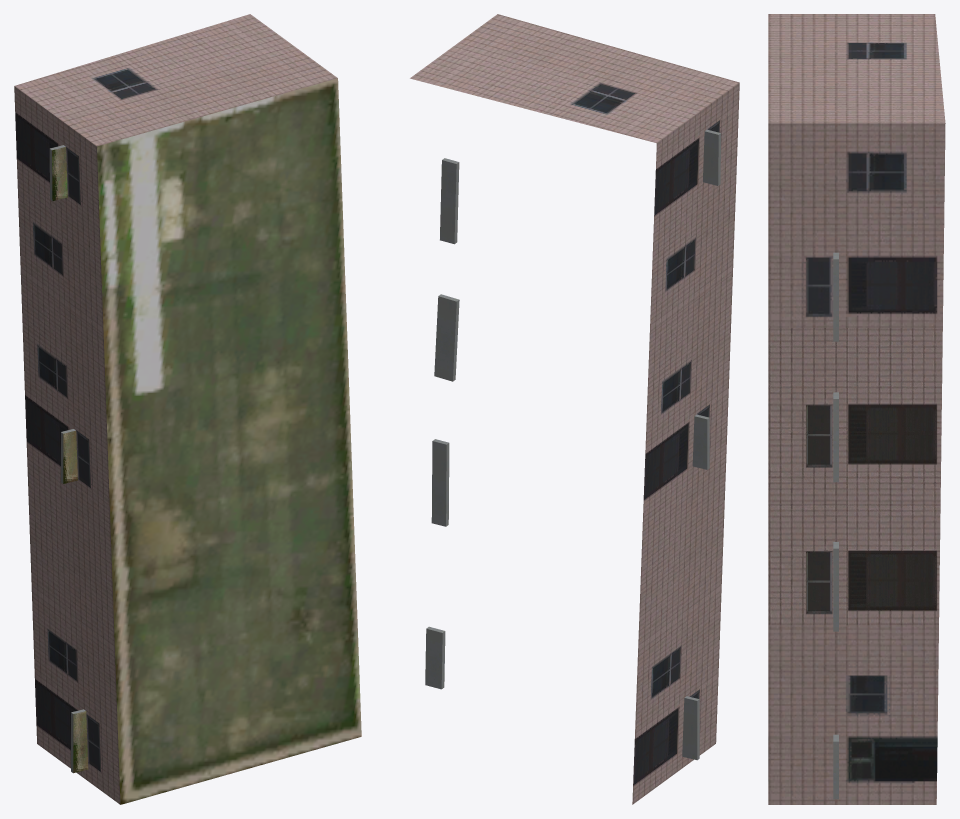
3 views of the same model, side by side, from view 1: azimuth 30°, elevation 25°; view 2: azimuth 150°, elevation 25°; view 3: azimuth 270°, elevation 25° (orthographic).
Parts seen in each view (by area): view 1: Group_MatrixTransform_i95085_Geometry_12, Group_MatrixTransform_i95085_Geometry_4, Group_MatrixTransform_i95085_Geometry_1, Group_MatrixTransform_i95085_Geometry_0, Group_MatrixTransform_i95085_Geometry_11, Group_MatrixTransform_i95085_Geometry_9, Group_MatrixTransform_i95085_Geometry_10; view 2: Group_MatrixTransform_i95085_Geometry_4, Group_MatrixTransform_i95085_Geometry_1, Group_MatrixTransform_i95085_Geometry_0, Group_MatrixTransform_i95085_Geometry_13; view 3: Group_MatrixTransform_i95085_Geometry_3, Group_MatrixTransform_i95085_Geometry_4, Group_MatrixTransform_i95085_Geometry_2, Group_MatrixTransform_i95085_Geometry_1, Group_MatrixTransform_i95085_Geometry_13.
Part boxes in pixels (x1,y1,x2,y2): Group_MatrixTransform_i95085_Geometry_12: (97,78,361,804); Group_MatrixTransform_i95085_Geometry_4: (14,86,120,804); Group_MatrixTransform_i95085_Geometry_1: (15,14,337,146); Group_MatrixTransform_i95085_Geometry_0: (20,250,115,677); Group_MatrixTransform_i95085_Geometry_11: (73,711,88,772); Group_MatrixTransform_i95085_Geometry_9: (52,147,67,200); Group_MatrixTransform_i95085_Geometry_10: (63,430,77,483); Group_MatrixTransform_i95085_Geometry_4: (632,83,739,804); Group_MatrixTransform_i95085_Geometry_1: (410,14,739,143); Group_MatrixTransform_i95085_Geometry_0: (637,247,733,677); Group_MatrixTransform_i95085_Geometry_13: (425,129,720,760); Group_MatrixTransform_i95085_Geometry_3: (768,328,942,625); Group_MatrixTransform_i95085_Geometry_4: (768,123,945,327); Group_MatrixTransform_i95085_Geometry_2: (768,625,938,804); Group_MatrixTransform_i95085_Geometry_1: (768,14,945,123); Group_MatrixTransform_i95085_Geometry_13: (833,252,838,799).
Size of the model in its own units: 11.3 by 24.94 by 5.89.
14 materials, 14 textured.
